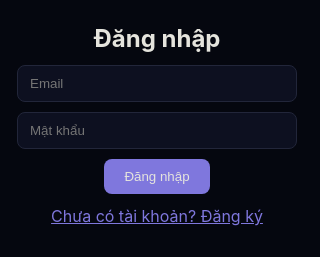
Test: LoginPage › shows the backend's error message and does not navigate on failure
Step 1. Type "a@example.com" into the field with placeholder "Email" → (157, 84), box [17,65,297,102]
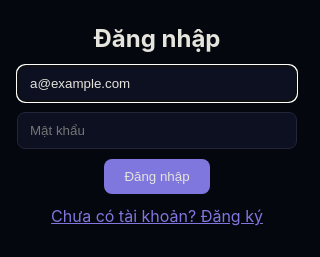
Step 2. Type "wrong" into the password field with placeholder "Mật khẩu" → (157, 130), box [17,112,297,149]
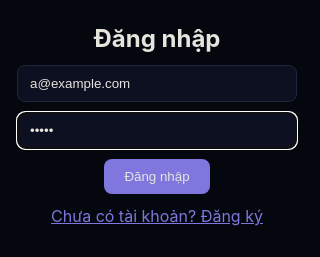
Step 3. Click the button "Đăng nhập" → (157, 176), box [104,159,210,194]
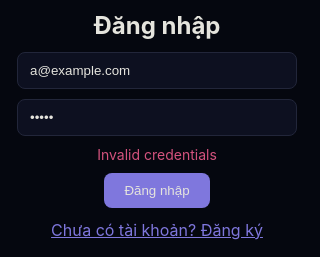
Check: the text "Invalid credentials" is shown, box [97,146,217,162]
